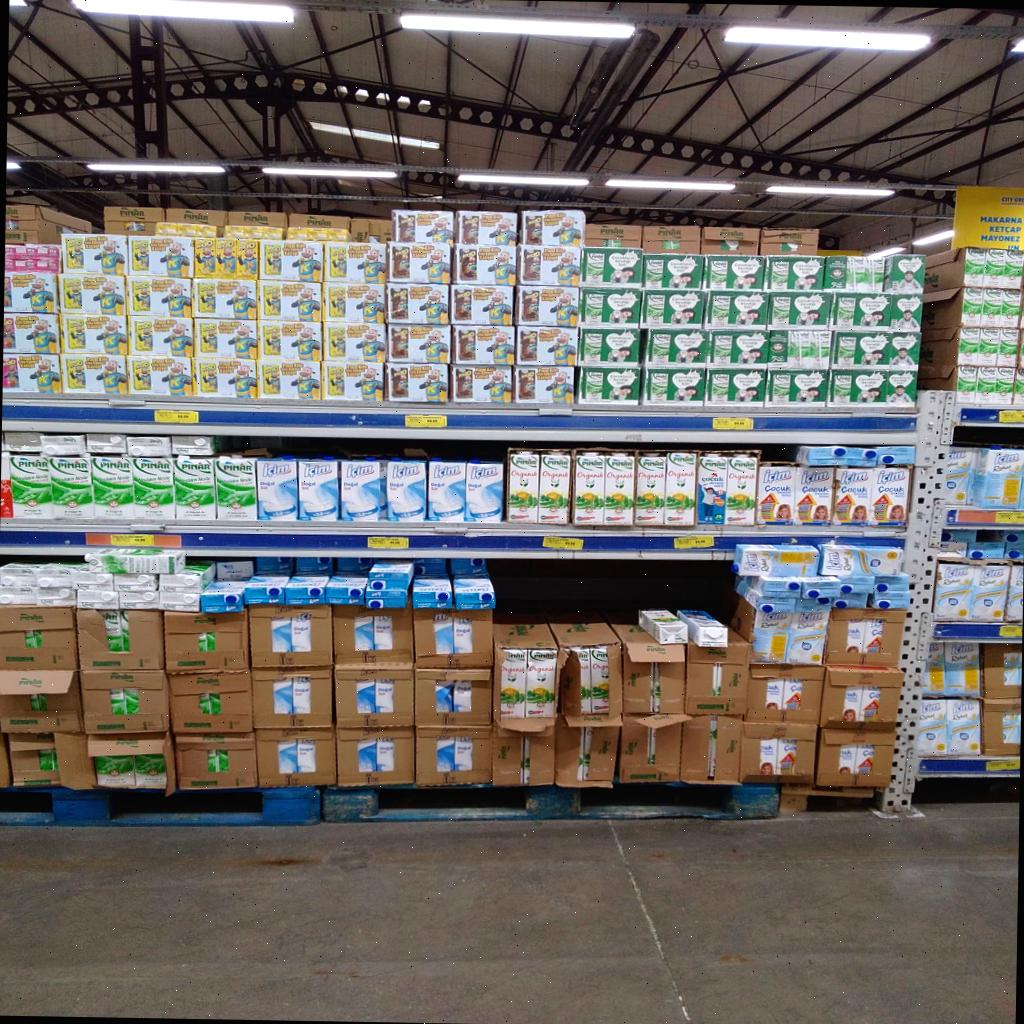price_tag: (154, 410, 199, 424), (542, 536, 584, 550), (673, 535, 714, 549), (405, 415, 447, 428), (110, 535, 155, 547), (368, 536, 409, 549), (713, 417, 753, 430), (985, 758, 1019, 772), (994, 512, 1023, 524), (999, 410, 1023, 423), (999, 625, 1021, 639)
product: (969, 447, 1024, 509), (127, 234, 195, 280), (513, 283, 582, 328), (450, 320, 518, 365), (463, 454, 508, 522), (818, 542, 902, 578), (382, 282, 450, 326), (191, 236, 259, 280), (259, 239, 324, 285), (386, 325, 458, 366), (89, 456, 134, 520), (341, 457, 386, 521), (387, 454, 428, 524), (46, 456, 93, 517), (129, 456, 174, 519), (61, 273, 126, 316), (456, 241, 518, 286), (127, 355, 195, 396), (520, 242, 580, 288), (62, 233, 126, 276), (258, 357, 322, 400), (172, 456, 215, 520), (732, 544, 818, 576), (325, 239, 386, 284), (193, 357, 258, 399), (574, 366, 642, 406), (259, 280, 322, 323), (10, 455, 53, 518), (61, 354, 127, 395), (128, 355, 194, 396), (126, 276, 190, 318), (193, 278, 257, 320), (214, 456, 256, 520), (933, 562, 979, 620), (323, 281, 385, 324), (62, 313, 127, 354), (822, 252, 885, 294), (704, 290, 770, 330), (767, 329, 831, 370), (763, 368, 827, 409), (756, 463, 799, 524), (131, 315, 193, 357), (85, 548, 185, 574), (746, 613, 800, 661), (451, 364, 512, 406), (427, 458, 467, 522), (942, 634, 982, 698), (259, 320, 321, 361), (321, 360, 383, 401), (387, 241, 449, 282), (195, 319, 258, 359), (518, 324, 578, 366), (768, 292, 831, 332), (259, 359, 320, 400), (257, 459, 298, 520), (298, 459, 339, 520), (967, 563, 1010, 621), (452, 284, 514, 324), (703, 252, 765, 292), (2, 353, 62, 394), (646, 288, 704, 330), (869, 466, 910, 525), (724, 452, 757, 525), (325, 322, 385, 362), (386, 363, 449, 401), (455, 208, 521, 244), (645, 329, 709, 366), (829, 368, 888, 408), (946, 696, 984, 758), (580, 285, 640, 324), (3, 271, 57, 314), (586, 246, 641, 288), (787, 608, 829, 663), (572, 452, 604, 524), (3, 313, 59, 354), (514, 365, 574, 403), (510, 446, 540, 522), (834, 467, 874, 524), (603, 453, 634, 525), (710, 329, 768, 367), (666, 452, 696, 525), (525, 648, 556, 718), (766, 254, 823, 292), (539, 452, 569, 524), (635, 453, 665, 525), (645, 369, 703, 406), (391, 209, 454, 243), (696, 452, 726, 523), (796, 467, 833, 524), (523, 210, 585, 244), (497, 647, 526, 718), (942, 447, 977, 505), (640, 254, 699, 288), (832, 332, 889, 367), (584, 327, 638, 363), (916, 698, 949, 754), (834, 293, 887, 327), (708, 370, 764, 402), (887, 250, 923, 296), (587, 646, 609, 712), (888, 330, 920, 370), (886, 368, 918, 408), (889, 294, 923, 330), (974, 366, 1001, 404), (988, 367, 1014, 406), (977, 327, 1004, 364), (983, 248, 1008, 286), (956, 366, 981, 404), (979, 288, 1003, 326), (1001, 250, 1024, 289), (928, 640, 944, 696), (963, 248, 986, 286), (1000, 289, 1022, 327), (960, 288, 983, 324), (996, 329, 1018, 366), (957, 327, 978, 364), (1006, 374, 1006, 376)
